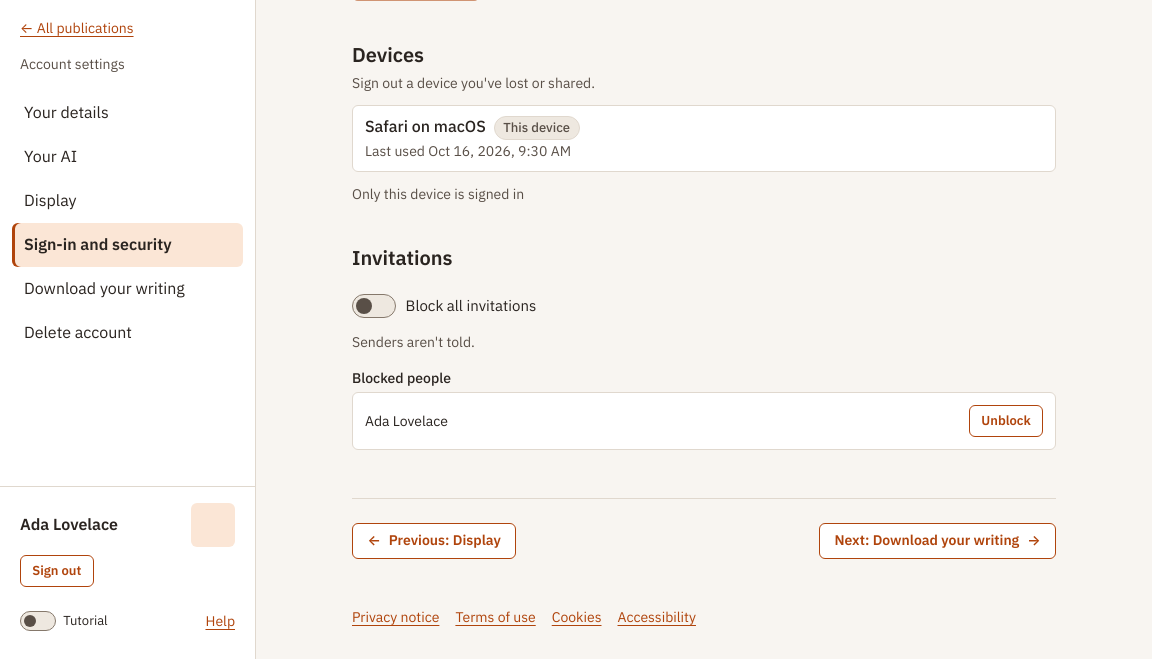
it: "Invitations" on the security page › lists blocked people and unblocks one
(page scrolled)
Click the button with aria-label "Unblock Ada Lovelace" at (1006, 421), box x1=969 y1=405 x2=1043 y2=437
(page scrolled)
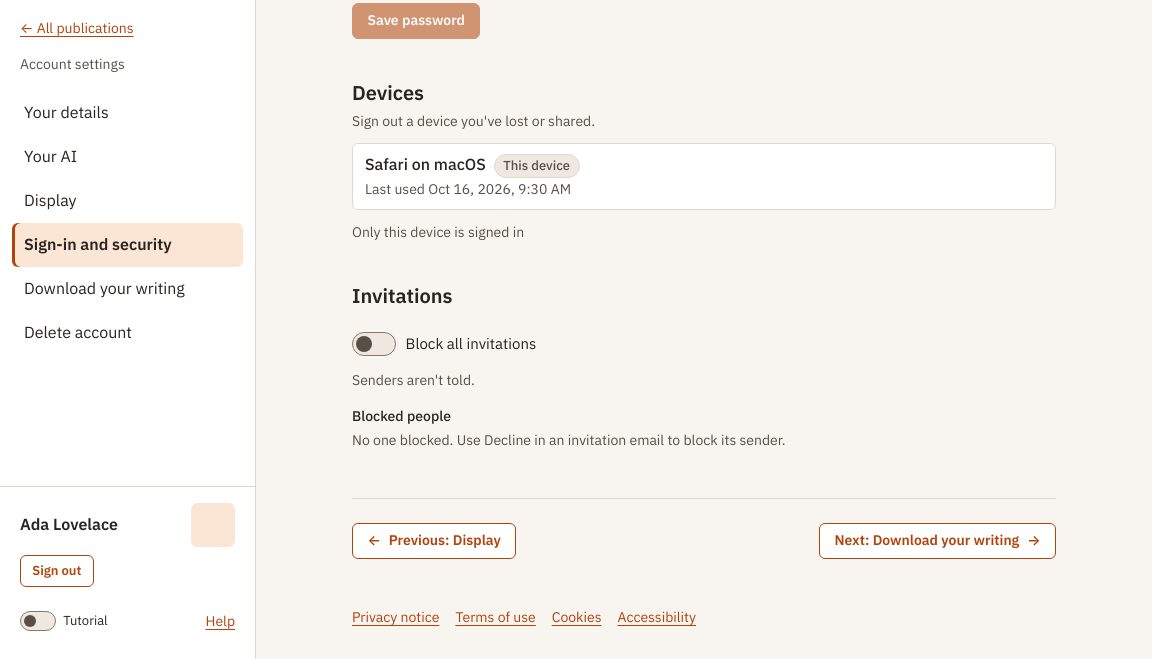
Expected: the text "No one blocked" is shown, x1=352 y1=431 x2=786 y2=449
